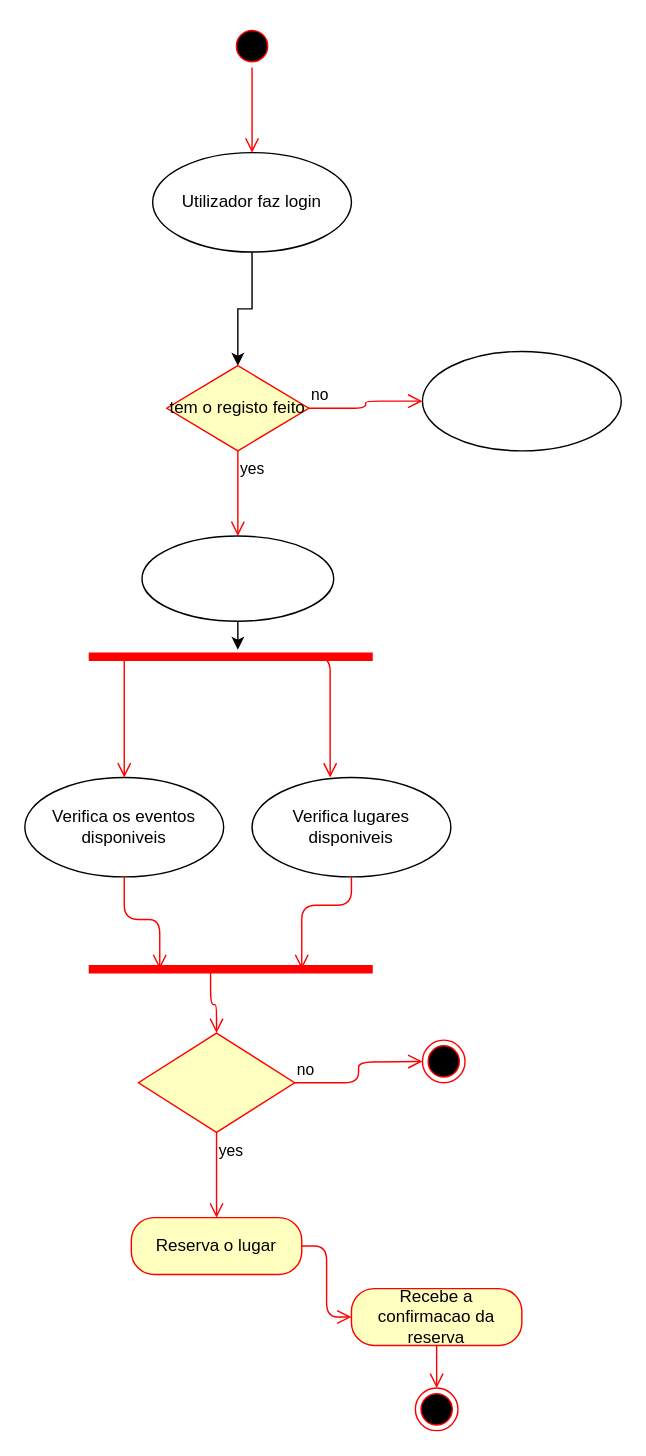
This 646x1456 diagram has some shape labels left out. The shapes that lost their labels are listed below. From the top down, each one's centre as x and y in pixels, then its label:
At point 521,400: "Efetua o registo".
At point 237,578: "Pretende inscrevesse um evento".
At point 216,1082: "Existem bilhetes disponiveis".
